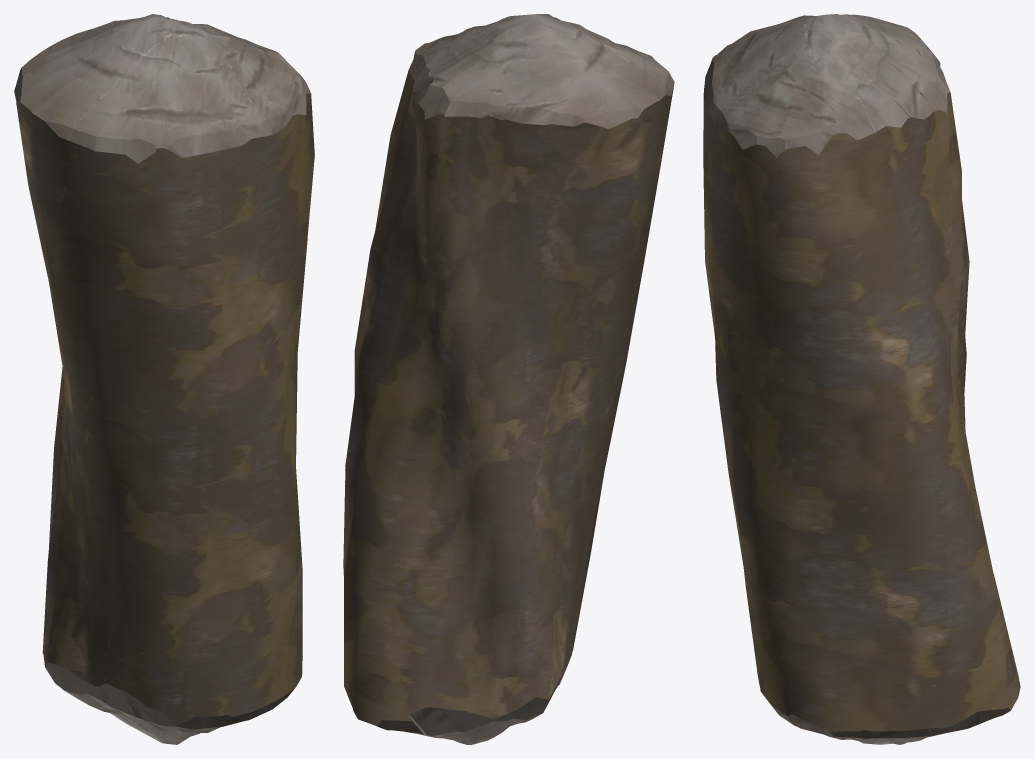
3 views of the same model, side by side, from view 1: azimuth 30°, elevation 25°; view 2: azimuth 150°, elevation 25°; view 3: azimuth 270°, elevation 25° (orthographic). The views are drawn at different scales.
Parts seen in each view (by area): view 1: SM_Yew_03_quarter_02_LOD0; view 2: SM_Yew_03_quarter_02_LOD0; view 3: SM_Yew_03_quarter_02_LOD0.
Part boxes in pixels (box(x1,y1,x2,y2)): SM_Yew_03_quarter_02_LOD0: box(14, 14, 314, 744); SM_Yew_03_quarter_02_LOD0: box(343, 14, 674, 744); SM_Yew_03_quarter_02_LOD0: box(703, 14, 1020, 744).
Size of the model in its own units: 0.7886 by 2.03 by 0.8188.
1 material, 1 textured.
